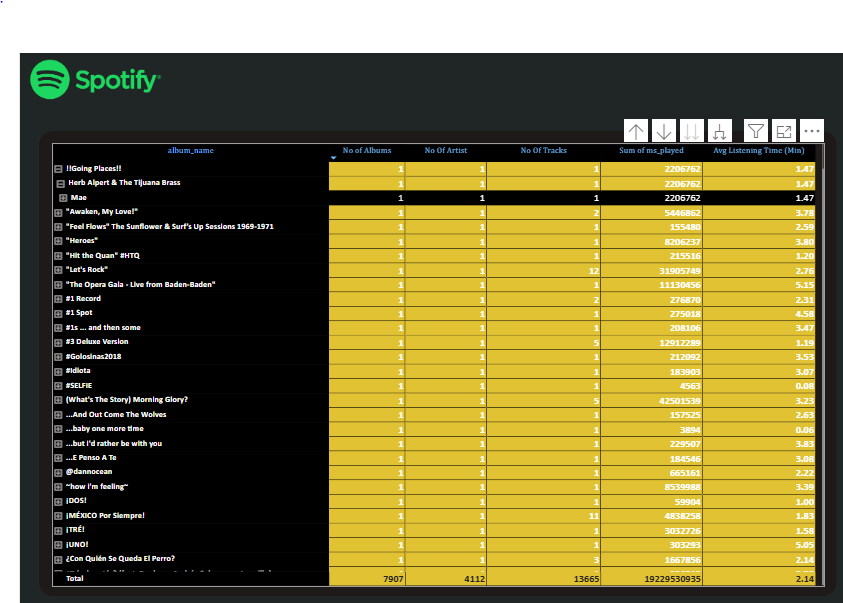

The dashboard page shown, as its layout file describes it:
{"tool":"powerbi","page":{"name":"Details","canvas":[3300,2200],"ordinal":2},"visuals":[{"type":"shape","box":[75,310,3145,1835],"z":0},{"type":"image","box":[11.7,11.7,576.7,200],"z":1000},{"type":"pivotTable","fields":{"Rows":["spotify_history.album_name","spotify_history.artist_name","spotify_history.track_name","spotify_history.platform","spotify_history.Track Played Date"],"Values":["spotify_history.No of Albums","spotify_history.No Of Artist","spotify_history.No Of Tracks","Sum(spotify_history.ms_played)","spotify_history.Avg Listening Time (Min)"]},"box":[125,360,3050,1750],"z":2000}]}

Visuals, with their boxes on the page's 3300x2200 design canvas (x1, y1, x2, y2). These are canvas units, not pixel positions in the 843x603 screenshot, which may show the page scaled, cropped or inside an application window:
shape: select_region(75, 310, 3220, 2145)
image: select_region(12, 12, 588, 212)
pivotTable - spotify_history.album_name x spotify_history.artist_name: select_region(125, 360, 3175, 2110)
